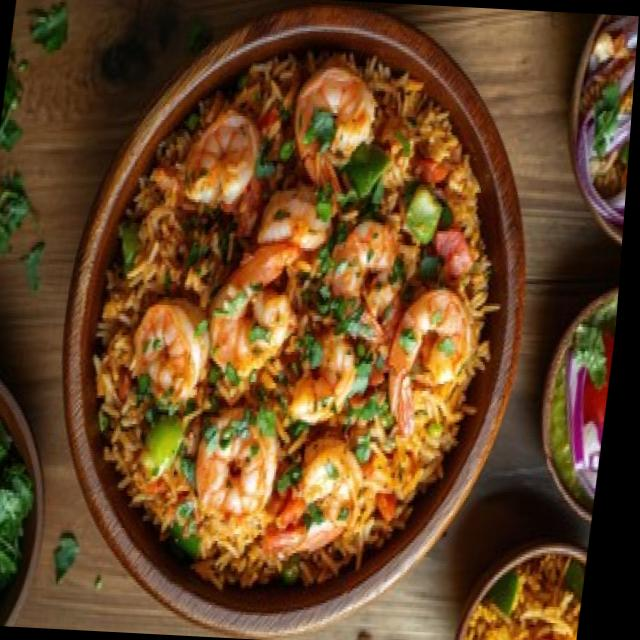BIRIYANI: (87, 49, 490, 606)
